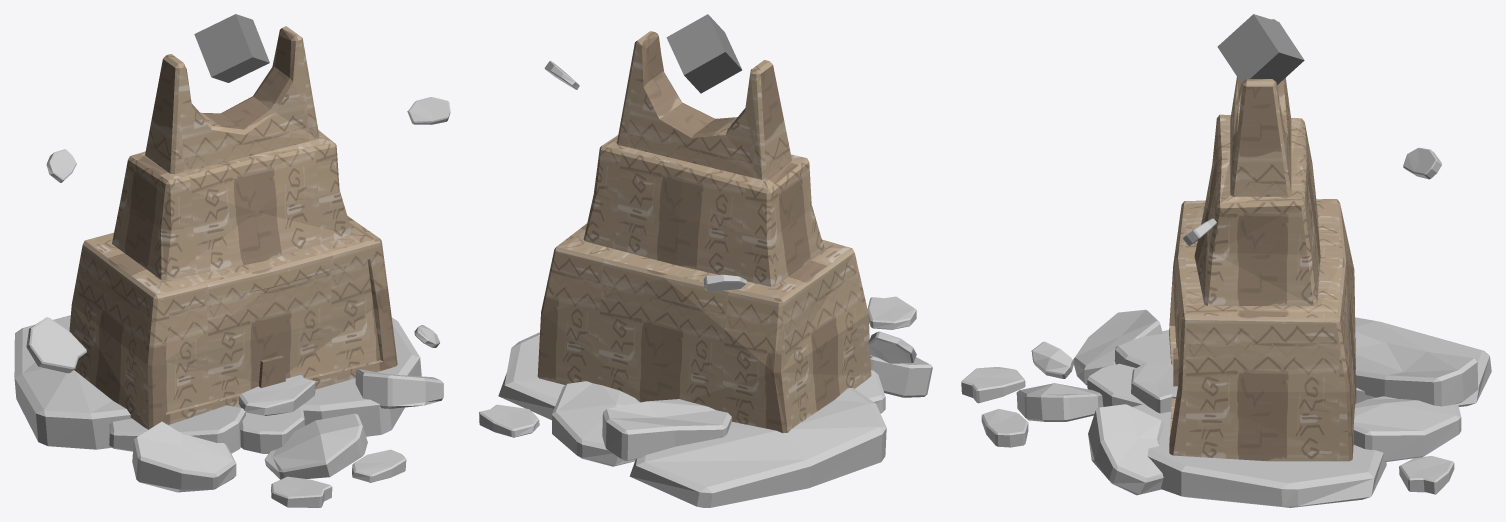
Rendered from z-tour01.FBX.
3 renders of one model, left to right at view 1: azimuth 30°, elevation 25°; view 2: azimuth 150°, elevation 25°; view 3: azimuth 270°, elevation 25°, orthographic. The views are drawn at different scales.
Visible parts, largest first — view 1: tour01; view 2: tour01; view 3: tour01.
Part boxes in pixels (left/top/right/bottom): tour01: left=14, top=14, right=450, bottom=507; tour01: left=479, top=14, right=932, bottom=507; tour01: left=961, top=14, right=1491, bottom=507.
Bounding box in the file's own units: 4736 × 5180 × 4653.
